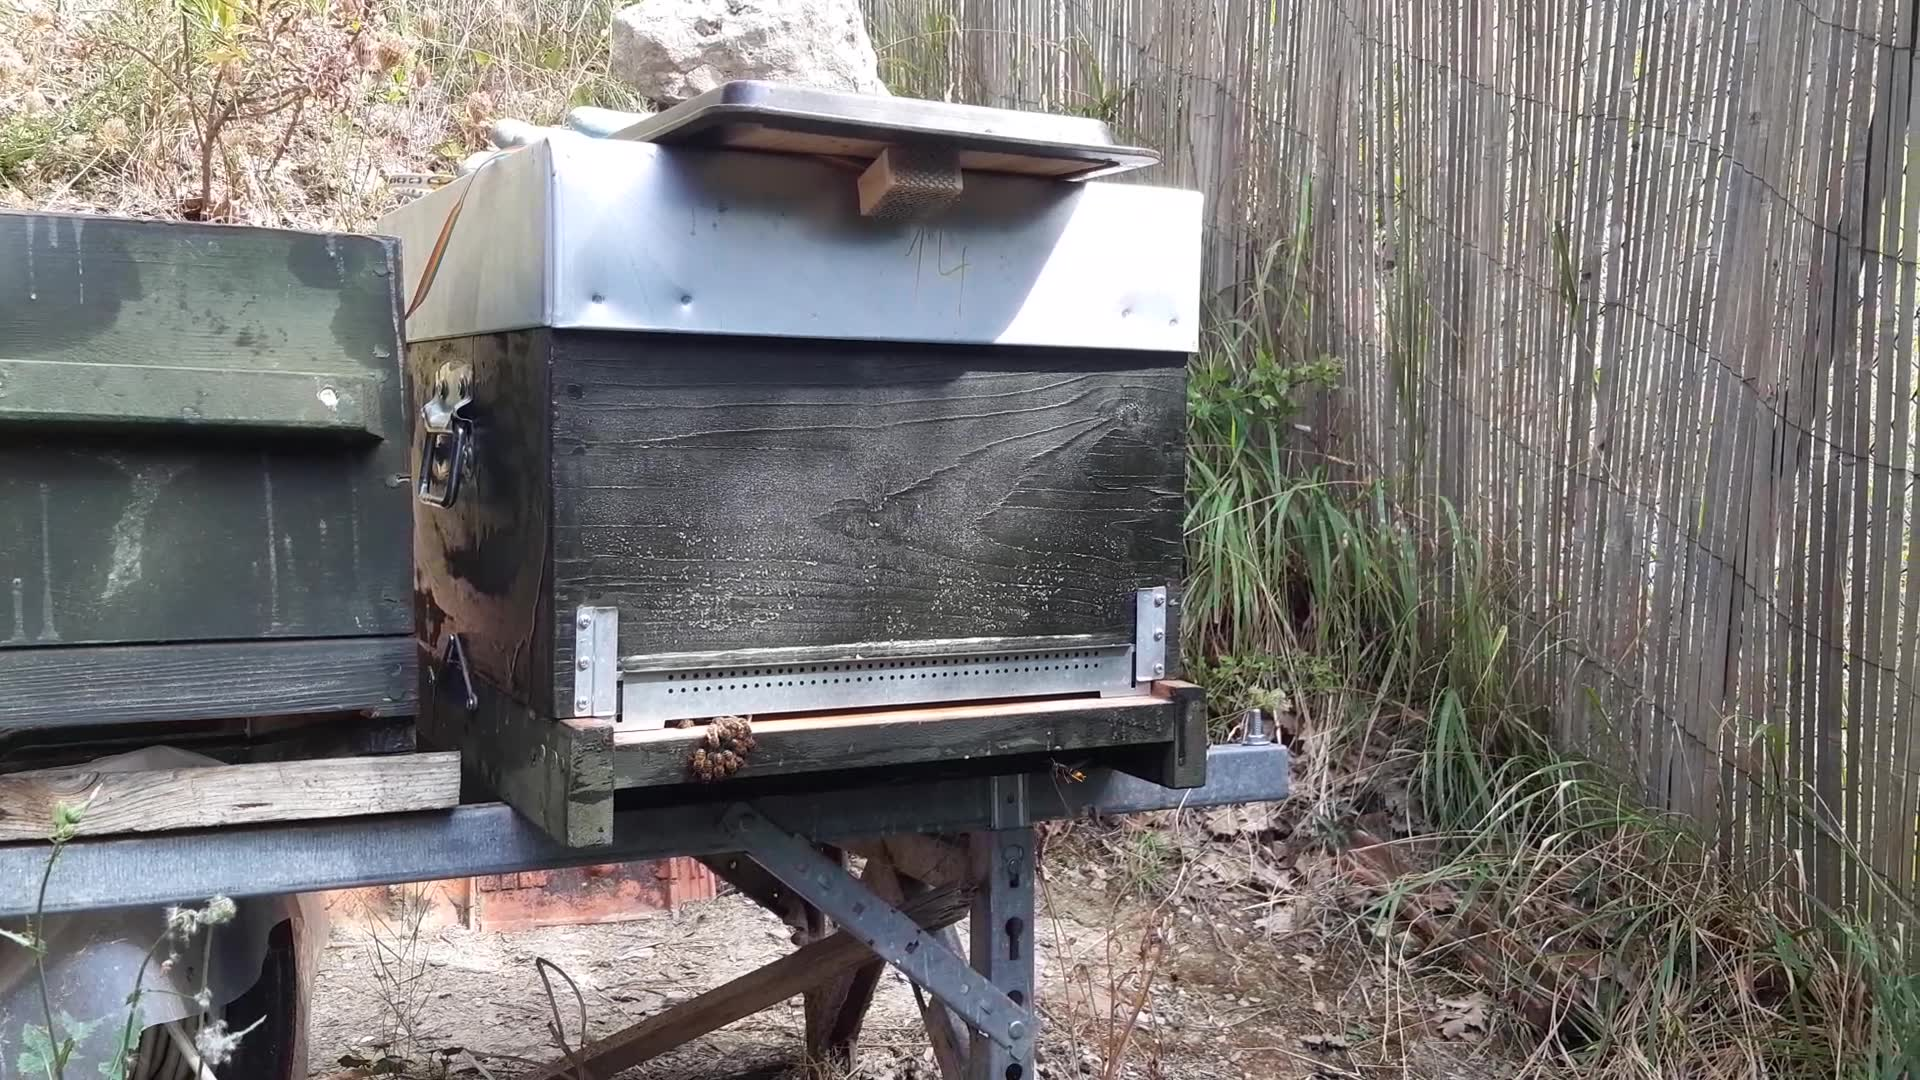bee: (691, 716, 756, 786)
hornet: (1048, 756, 1089, 787)
